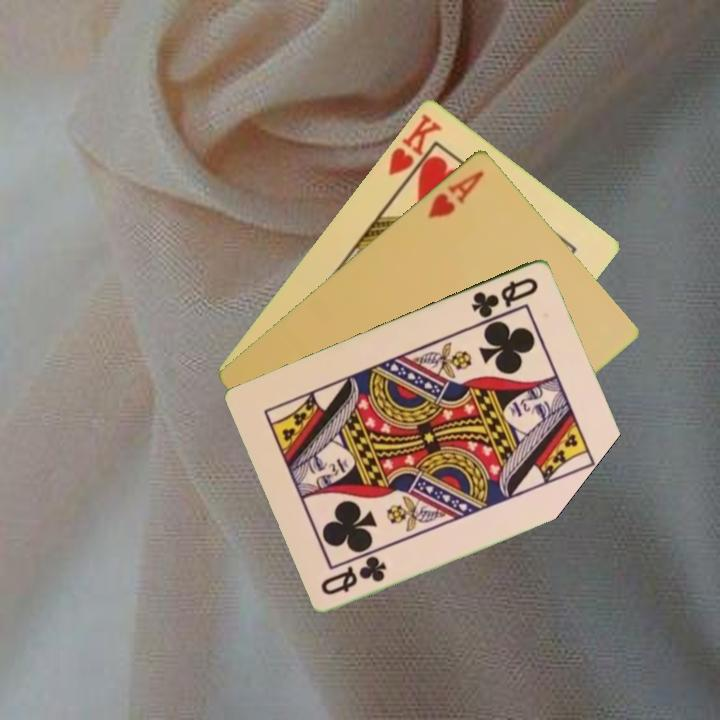Ah: (424, 166, 487, 221)
Kh: (384, 109, 445, 190)
Qc: (467, 273, 542, 321), (317, 552, 390, 598)
